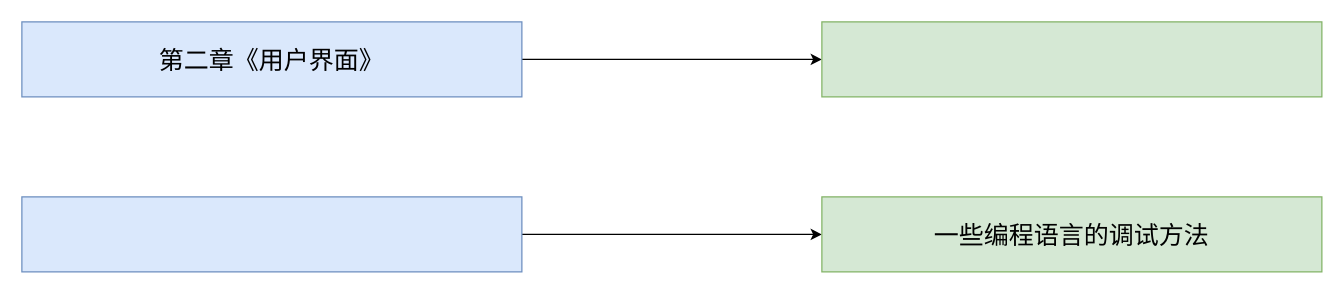
This 1344x294 diagram has some shape labels left out. Each missing label, with the centre of its shape:
"第六章《开发中具体使用》" goes at (271,234).
"调试的通用知识" goes at (1071,59).
